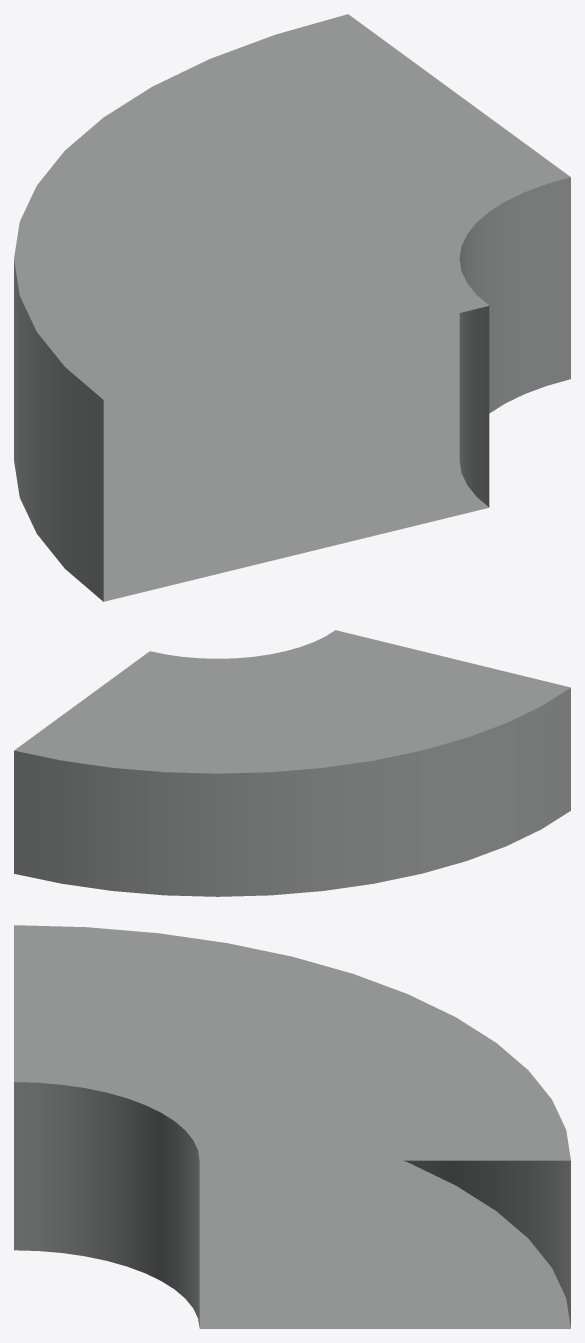
The model's file is HVAC_Elbow_25x50.fbx.
3 views of the same model, one above another, from view 1: azimuth 30°, elevation 25°; view 2: azimuth 150°, elevation 25°; view 3: azimuth 270°, elevation 25° (orthographic). The views are drawn at different scales.
Visible parts, largest first — view 1: HVAC_Elbow_25x75; view 2: HVAC_Elbow_25x75; view 3: HVAC_Elbow_25x75.
Boxes of the visible parts, x1,y1,x2,y2 form: HVAC_Elbow_25x75: [14, 14, 570, 601]; HVAC_Elbow_25x75: [14, 630, 570, 896]; HVAC_Elbow_25x75: [14, 925, 570, 1328].
Bounding box in the file's own units: 0.0075 × 0.0025 × 0.0075.
